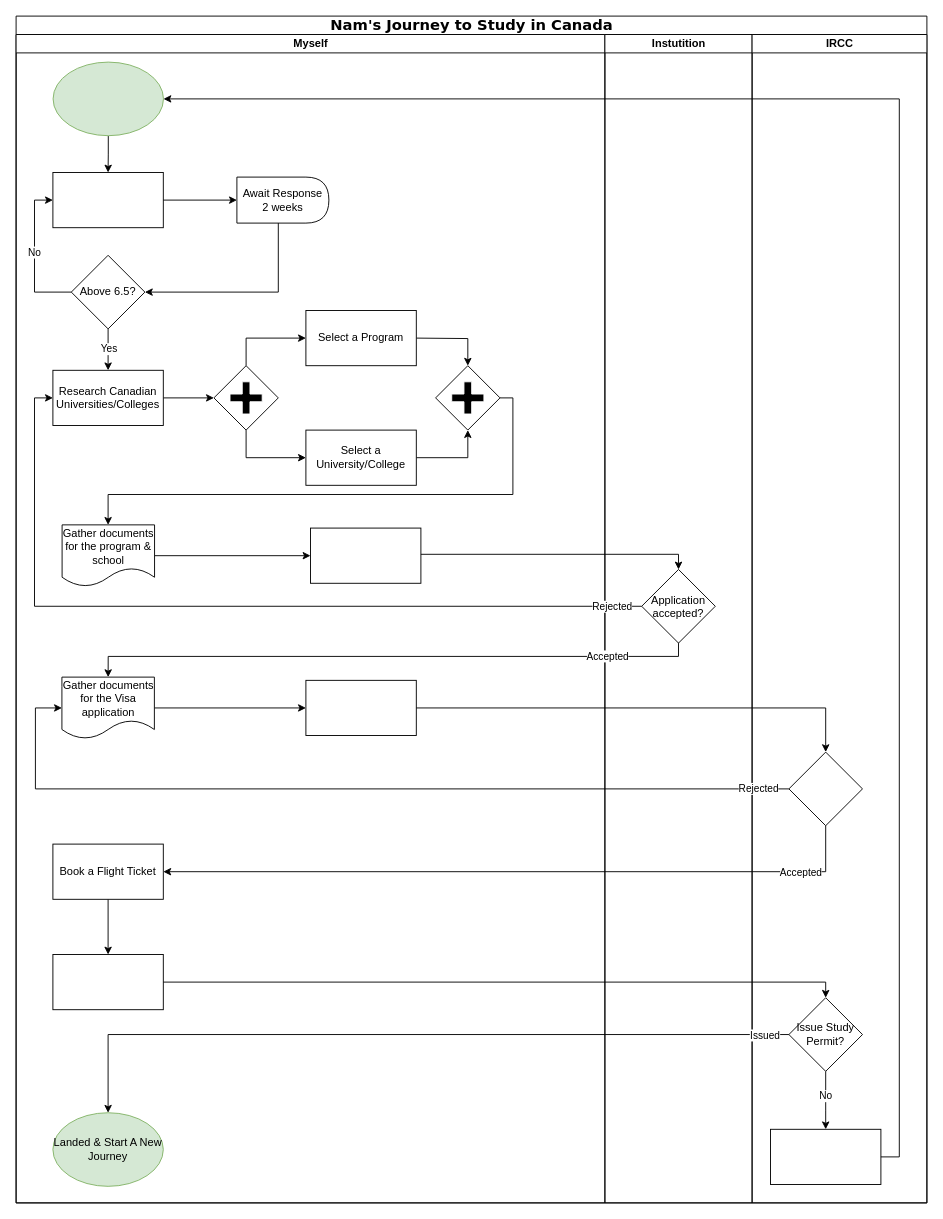
Image size: 943x1219. Some labels were removed from this diagram. The centre of each missing label's shape, as x and y in pixels:
"Apply for the Program" goes at (x=365, y=555).
"Apply for the Visa" goes at (x=360, y=707).
"Being forced to fly back to Vietnam" goes at (x=825, y=1156).
"Canada Study Journey Begin" goes at (x=107, y=98).
"Flight to Canada" goes at (x=107, y=982).
"Practice & Take IELTS Exam" goes at (x=107, y=200).
"Visa approved?" goes at (x=825, y=788).
